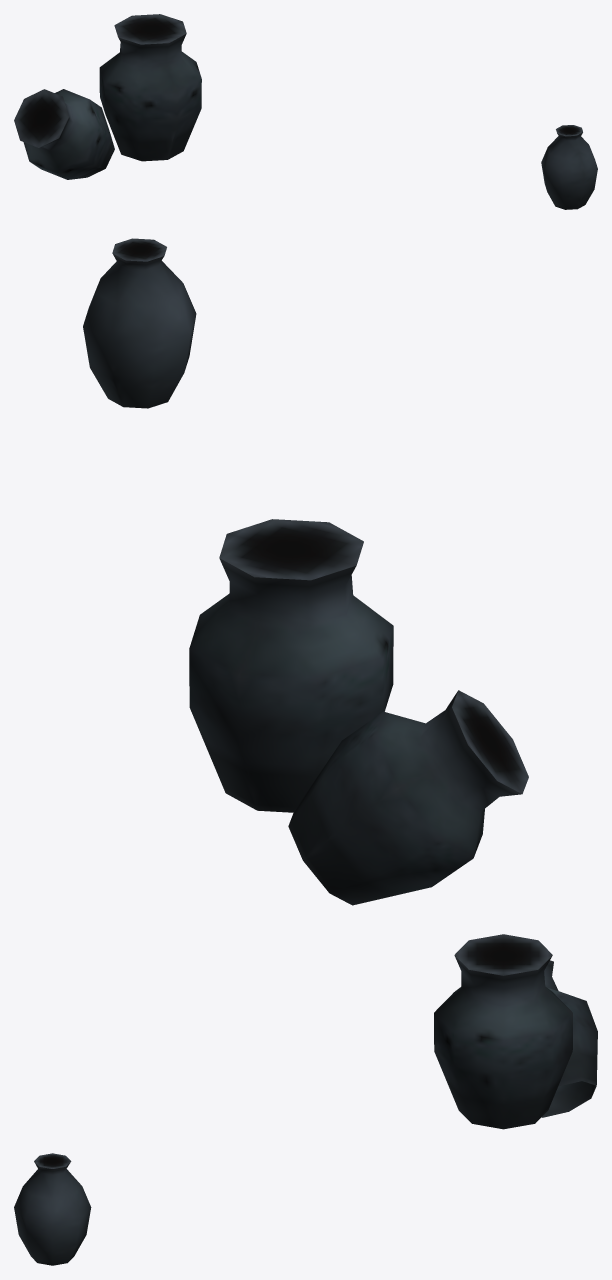
The model's file is Area11_2.fbx.
The picture shows the model from 3 angles, top to bottom: view 1: azimuth 30°, elevation 25°; view 2: azimuth 150°, elevation 25°; view 3: azimuth 270°, elevation 25°; orthographic projection. The views are drawn at different scales.
Visible parts, largest first — view 1: Area11_2; view 2: Area11_2; view 3: Area11_2.
Part boxes in pixels (bbox=[...]): Area11_2: bbox=[14, 14, 597, 209]; Area11_2: bbox=[83, 238, 528, 905]; Area11_2: bbox=[14, 934, 597, 1265].
Bounding box in the file's own units: 439 × 156 × 426.
